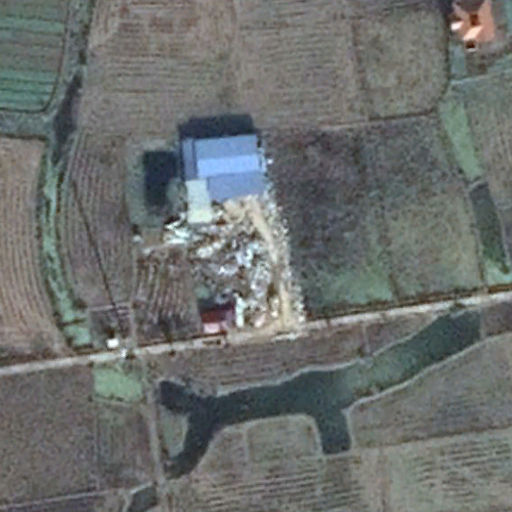msw: (169, 221, 279, 327)
